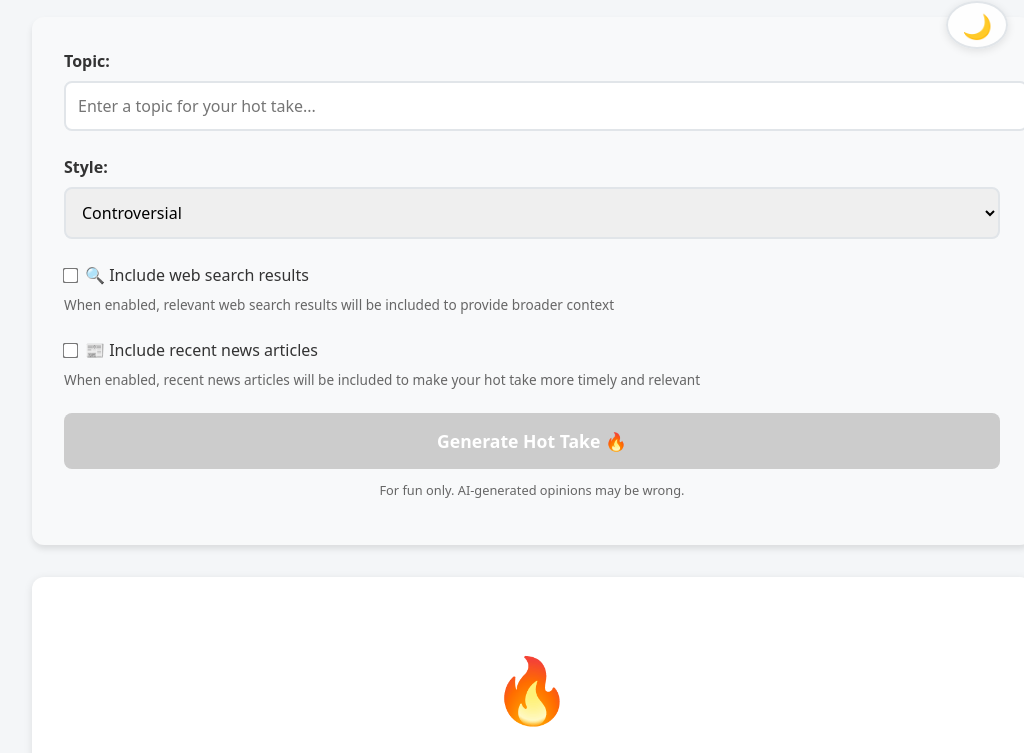
it: HotTakeGenerator › displays hot take after successful generation
Step 1. Type "AI in education" into the field labelled "Topic:" → (544, 106), box [64,81,1023,131]
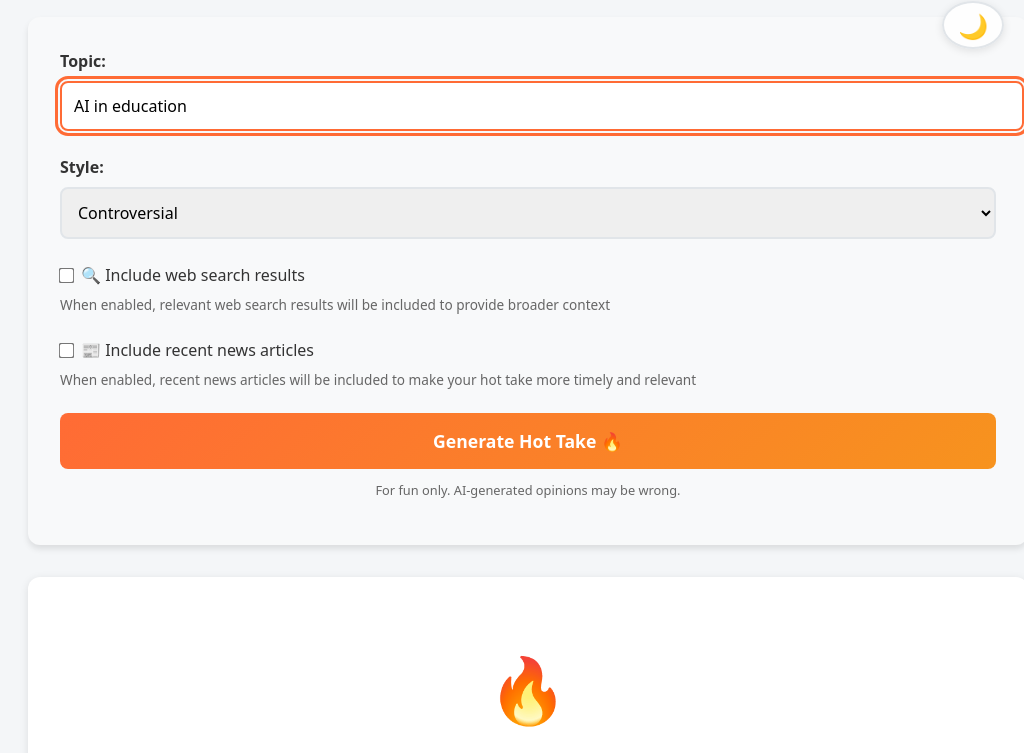
Step 2. Click the button "Generate Hot Take 🔥" → (528, 441), box [60,413,996,469]
(page scrolled)
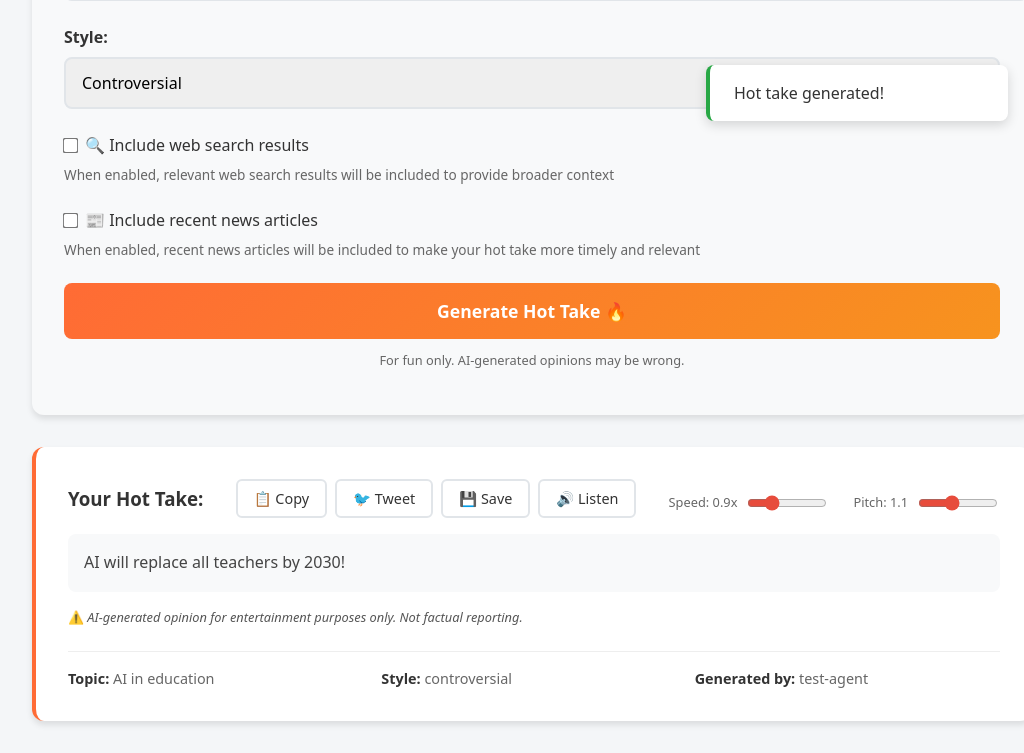
Expected: the text "AI will replace all teachers by 2030!" is shown, [84,551,345,573]
Expected: the heading "Your Hot Take:" is shown, [68,484,203,513]
Expected: the text "Generated by:" is shown, [695,669,795,688]
